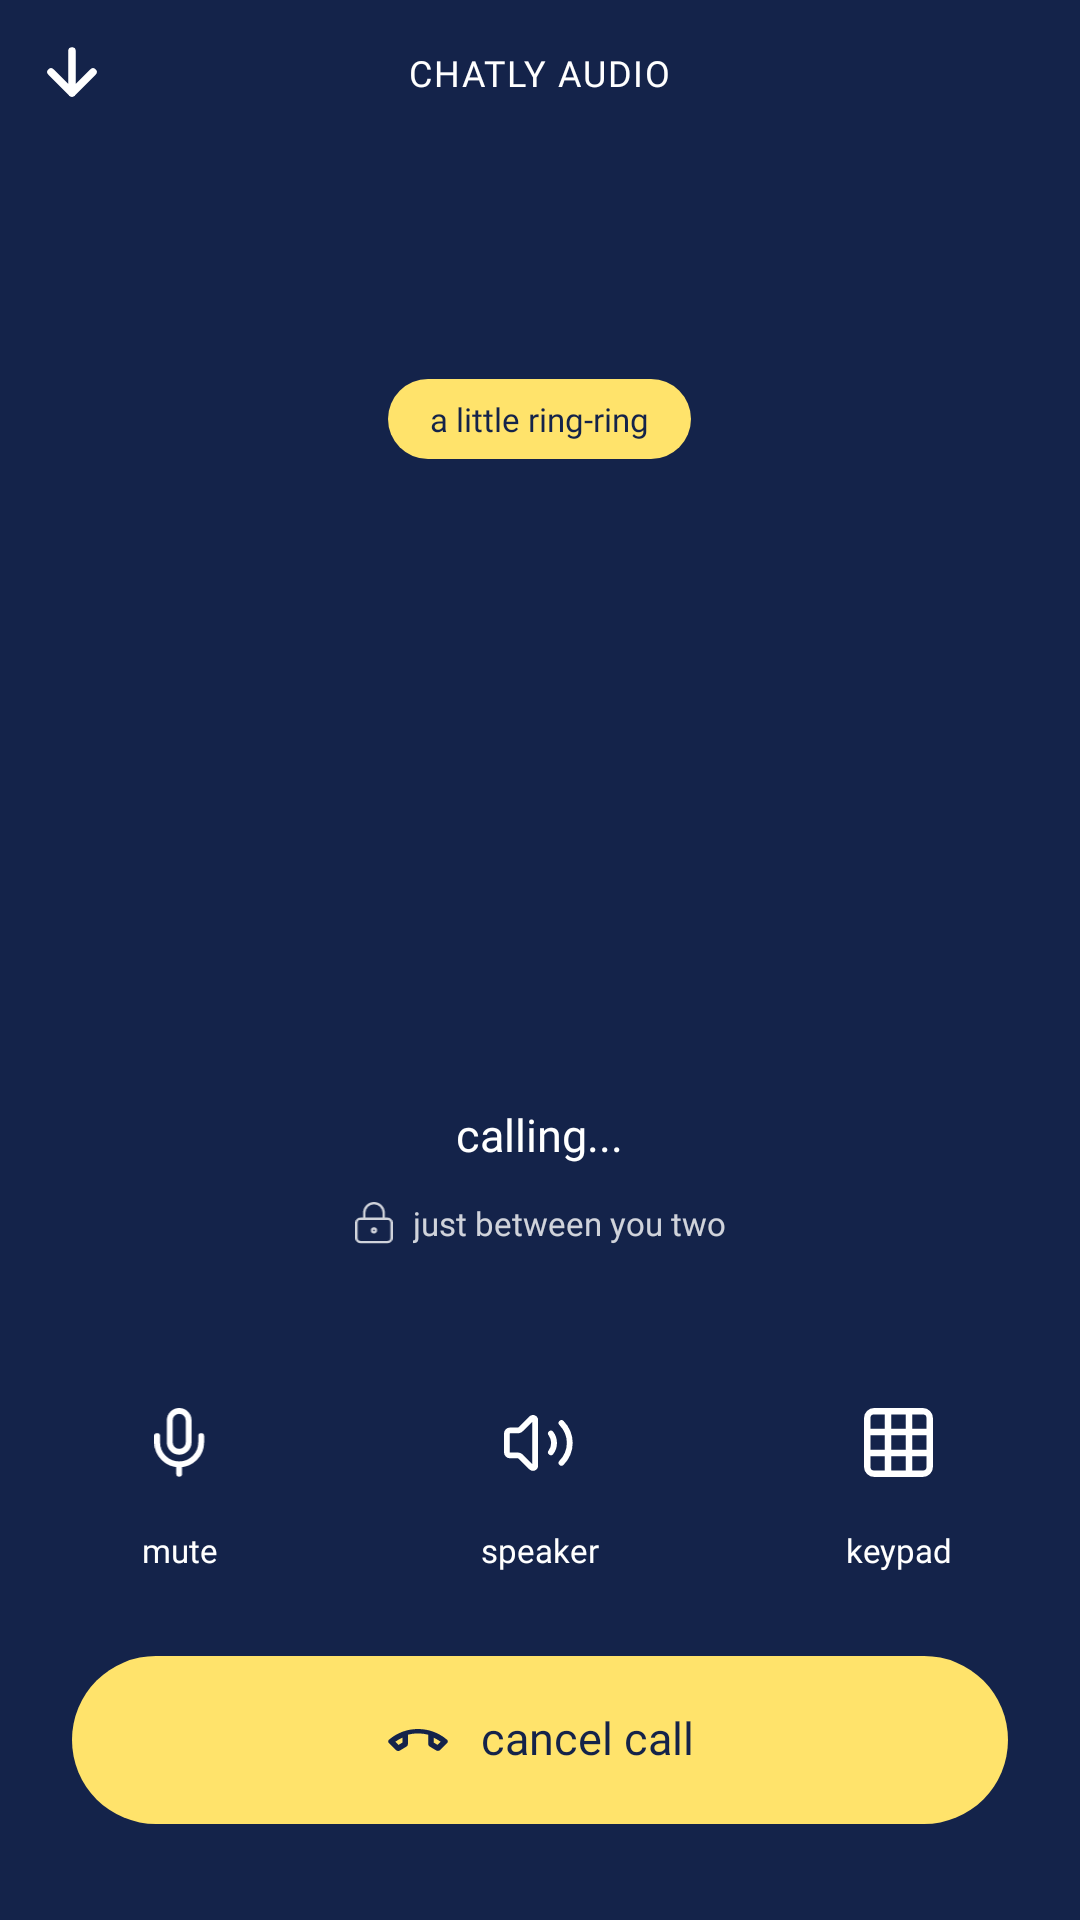

Point at icon controls on the screen. Image size 1080px x 1920px, points as (x,y).
arrow down: (72,72)
call decline: (418,1740)
reg lock: (374,1223)
